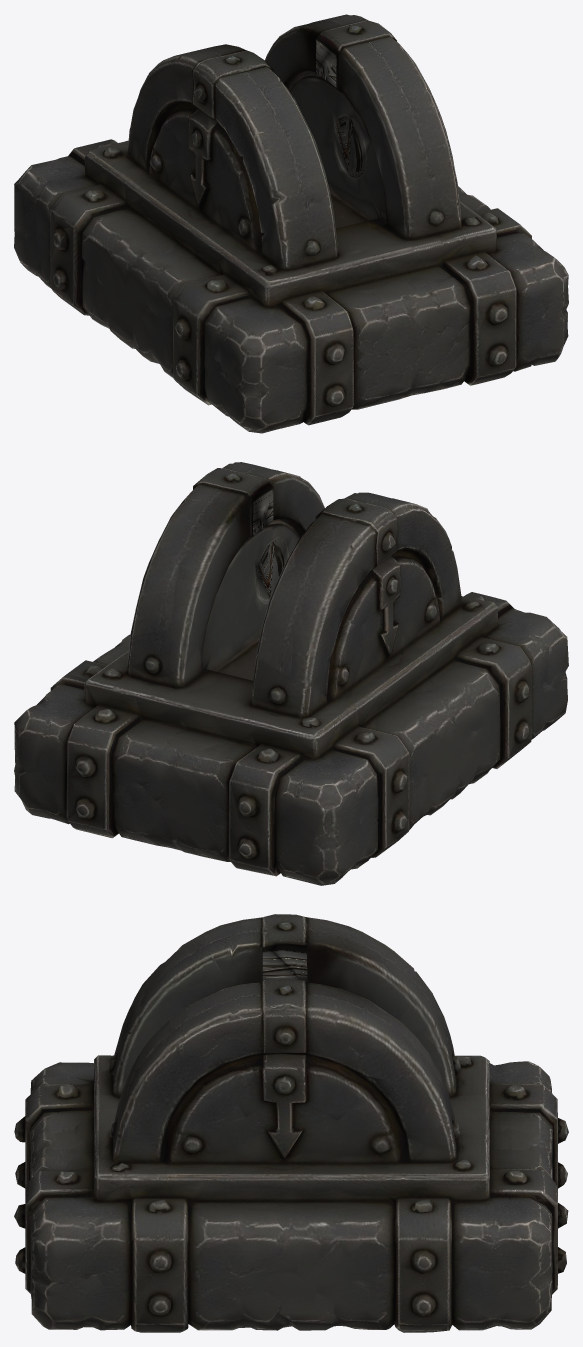
The model's file is Lever_Base.fbx.
3 renders of one model, top to bottom at view 1: azimuth 30°, elevation 25°; view 2: azimuth 150°, elevation 25°; view 3: azimuth 270°, elevation 25°, orthographic. The views are drawn at different scales.
Parts seen in each view (by area): view 1: Lever_Base; view 2: Lever_Base; view 3: Lever_Base.
Boxes of the visible parts, left/top/right/bottom form: Lever_Base: left=14, top=14, right=568, bottom=433; Lever_Base: left=14, top=462, right=568, bottom=885; Lever_Base: left=14, top=914, right=568, bottom=1332.
Size of the model in its own units: 44.59 by 33.57 by 56.86.
1 material, 1 textured.
